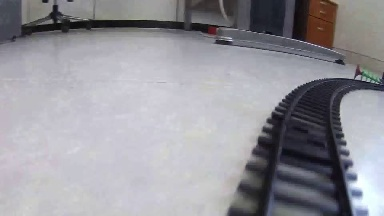tree: (352, 65, 383, 85)
